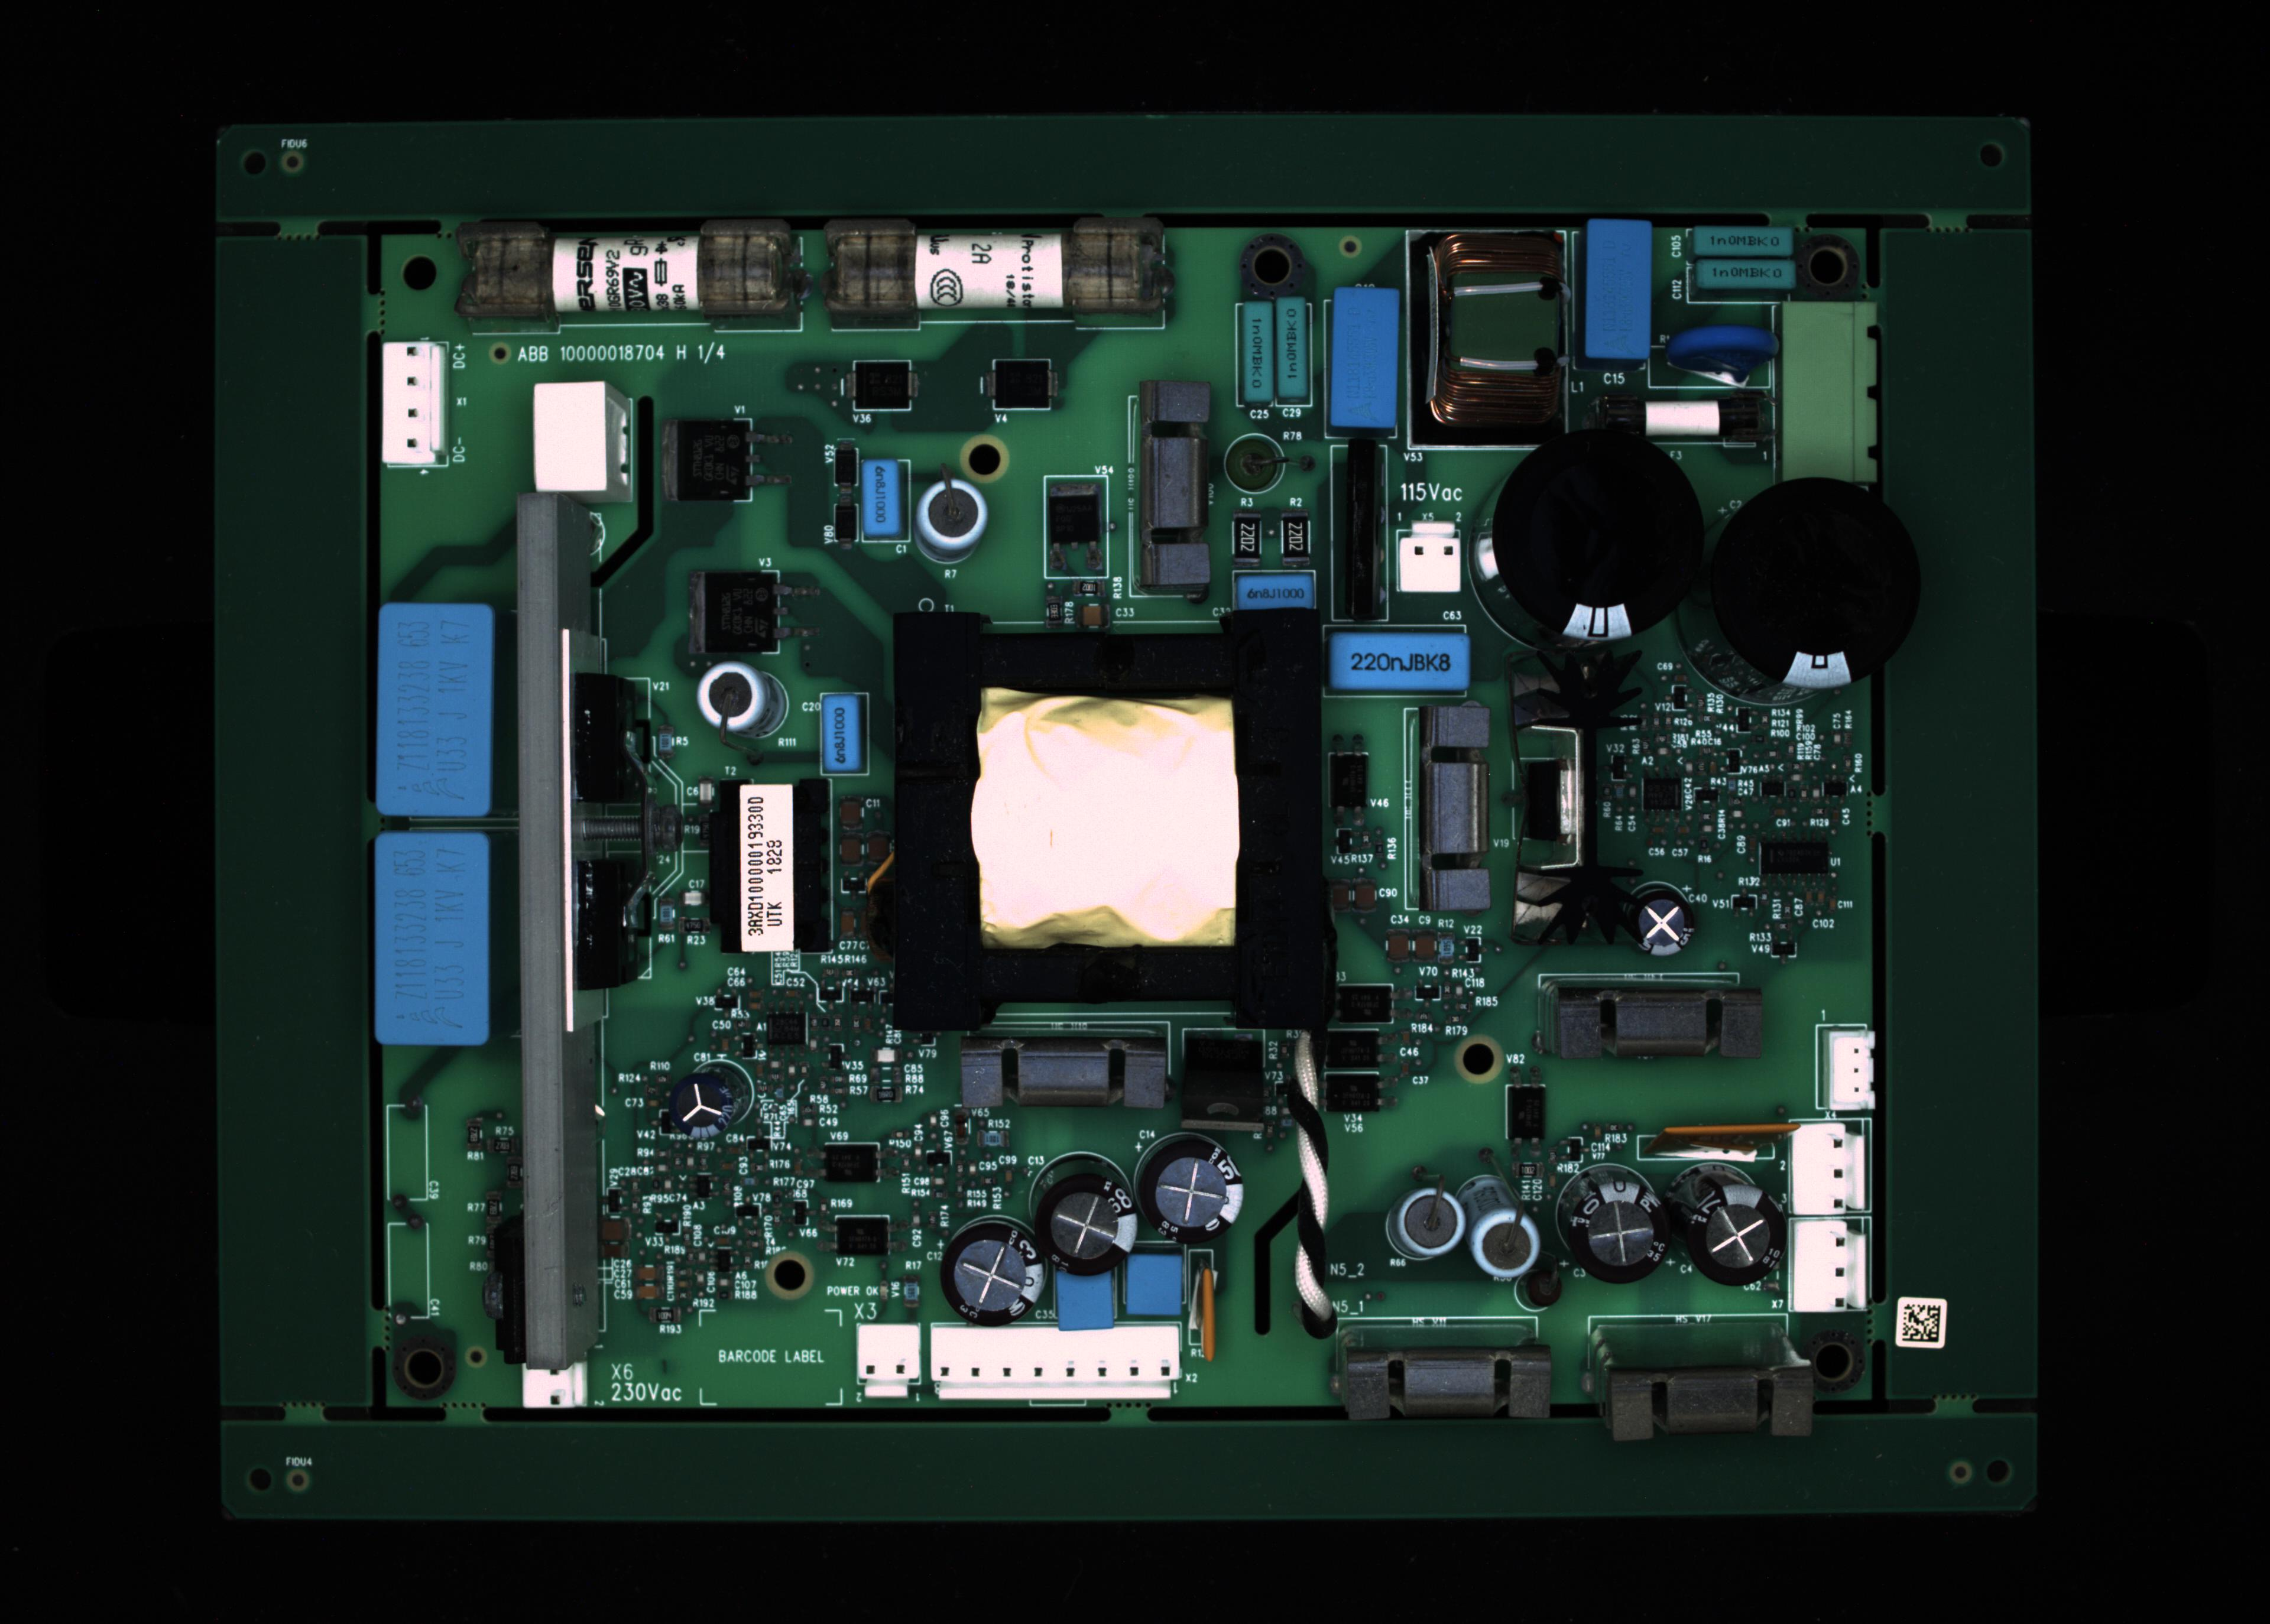10_p: (1648, 346, 1772, 394)
11_q: (1776, 299, 1881, 482)
12_r: (1591, 387, 1776, 455)
13_s: (380, 337, 445, 460)
14_t: (538, 380, 637, 494)
15_e: (862, 462, 902, 534)
16_k: (920, 478, 985, 550)
17_u: (1136, 387, 1204, 596)
18_v: (1234, 569, 1317, 615)
19_w: (1322, 629, 1468, 694)
1_a: (455, 216, 807, 336)
20_f: (1393, 517, 1470, 599)
21_g: (1475, 429, 1709, 670)
22_g: (1711, 480, 1924, 689)
23_h: (378, 605, 492, 814)
24_h: (376, 830, 487, 1046)
25_f: (515, 1360, 591, 1411)
26_f: (851, 1323, 927, 1403)
27_x: (925, 1323, 1182, 1396)
28_i: (1129, 1120, 1241, 1239)
29_i: (1027, 1153, 1134, 1274)
2_a: (819, 216, 1175, 330)
30_i: (941, 1216, 1055, 1339)
31_j: (1050, 1267, 1120, 1339)
32_j: (1118, 1253, 1189, 1323)
33_e: (814, 692, 869, 780)
34_k: (1394, 1181, 1465, 1262)
35_k: (1470, 1206, 1539, 1285)
36_i: (1556, 1164, 1672, 1295)
37_i: (1663, 1160, 1786, 1290)
38_l: (1336, 1348, 1560, 1424)
39_l: (1602, 1369, 1820, 1448)
3_b: (1243, 295, 1270, 402)
40_l: (1546, 977, 1778, 1069)
41_y: (1407, 678, 1505, 919)
42_z: (1825, 1028, 1878, 1114)
43_m: (1792, 1120, 1874, 1216)
44_m: (1788, 1225, 1876, 1311)
45_i: (679, 1065, 756, 1142)
46_n: (1338, 982, 1394, 1028)
47_n: (821, 1141, 881, 1183)
48_n: (835, 1213, 895, 1258)
49_aa: (761, 1011, 814, 1056)
4_b: (1280, 299, 1317, 410)
50_n: (1321, 1030, 1391, 1070)
51_n: (1308, 1070, 1396, 1120)
52_ab: (1329, 740, 1377, 831)
53_ac: (1656, 1130, 1790, 1165)
54_ad: (1194, 1253, 1222, 1364)
55_l: (958, 1032, 1175, 1118)
56_ae: (1182, 1033, 1264, 1121)
57_af: (1509, 647, 1635, 951)
58_i: (1630, 884, 1706, 958)
59_o: (995, 359, 1053, 408)
5_c: (1331, 286, 1400, 427)
60_o: (851, 359, 911, 410)
6_ag: (1405, 232, 1572, 452)
7_c: (1591, 220, 1656, 353)
8_d: (1686, 227, 1792, 260)
9_d: (1693, 262, 1793, 292)
